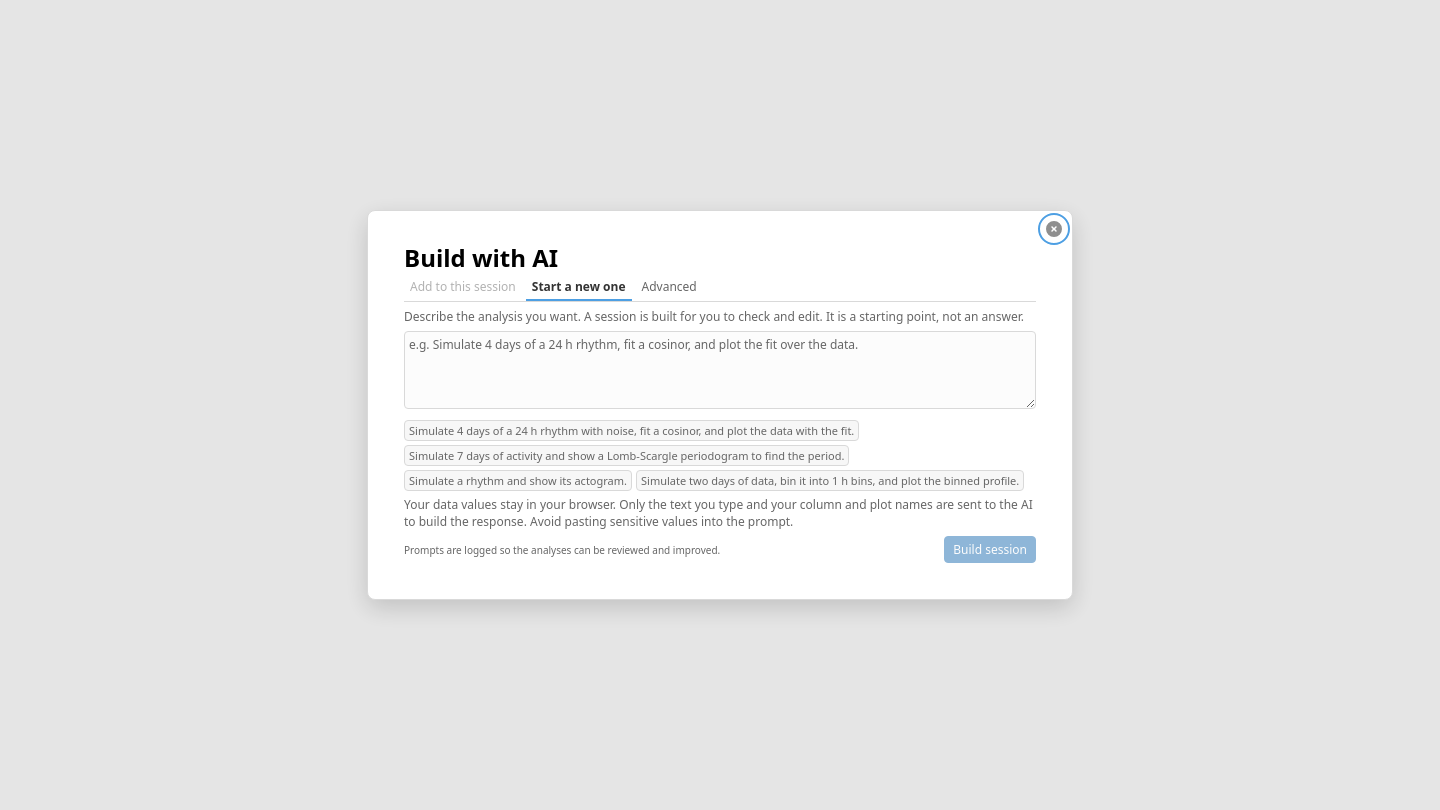
Test: AiPrompt: partial-success gate › holds the session and lists what was dropped when the Worker reports errors
Replace the text in the text box with "plot an actogram" at (720, 370), box [404,331,1036,409]
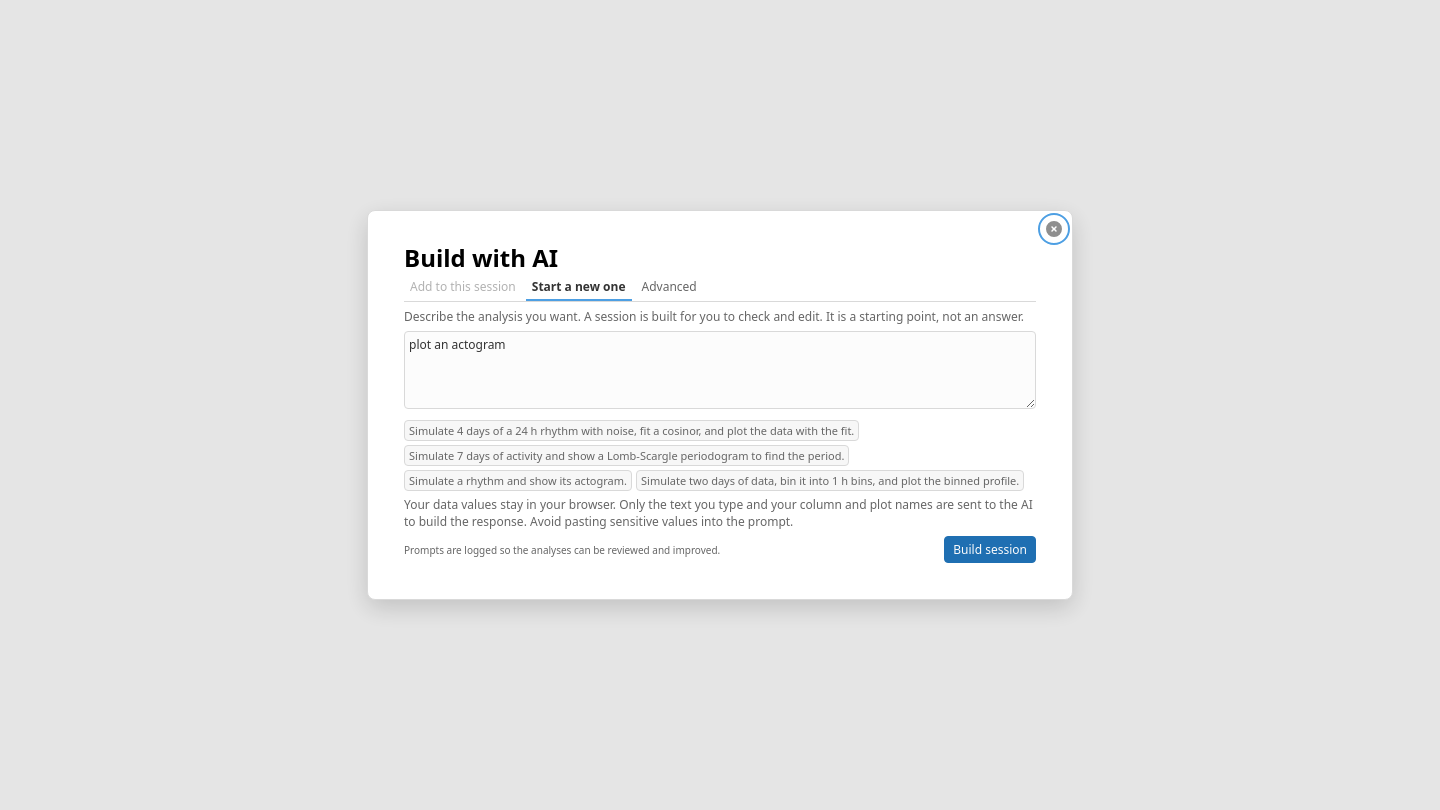
Click the button "Build session" at (990, 550), box [944,536,1036,563]
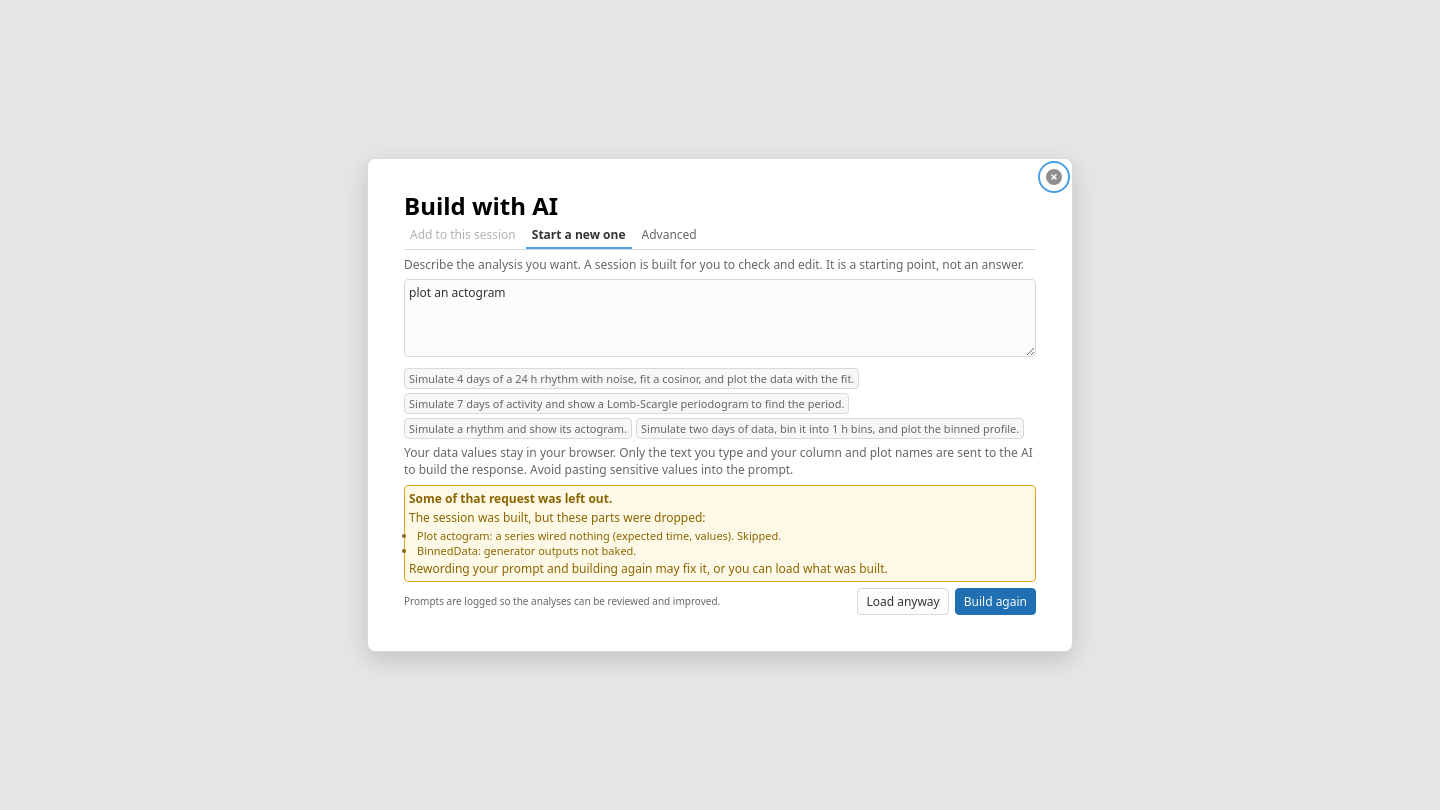
Result: the message with class "gate" is shown at [404,485,1036,582]
Result: the message with class "gate" shows "a series wired nothing" at [417,528,781,543]
Result: the message with class "gate" shows "generator outputs not baked" at [417,543,636,558]
